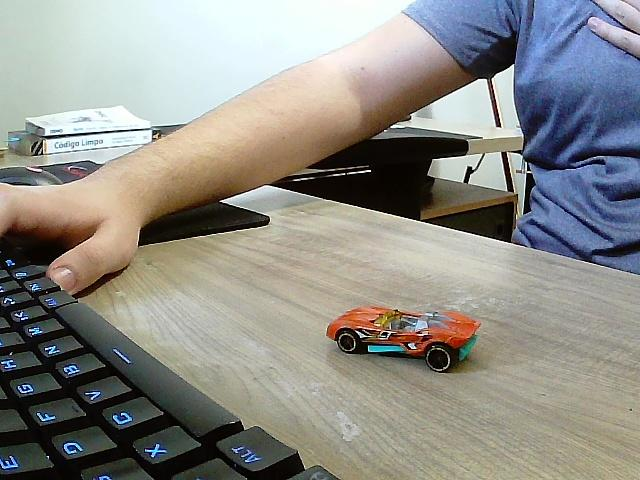Carro: (327, 308, 481, 373)
